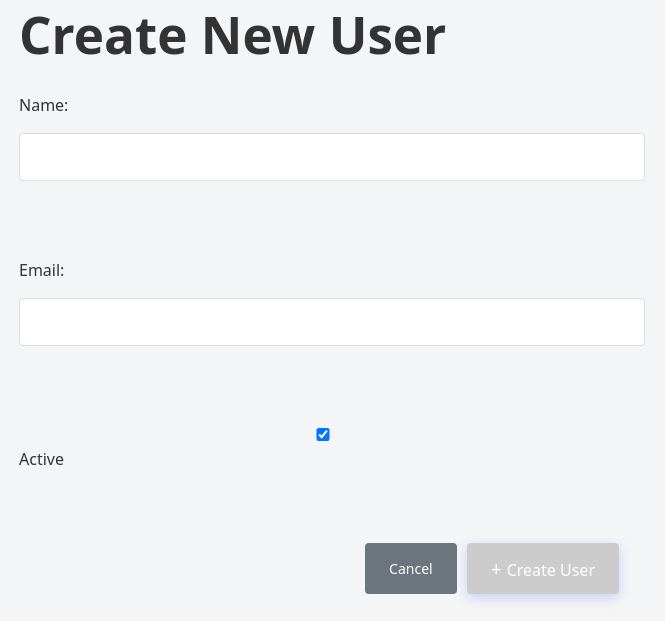
Test case: CreateUser › shows validation errors when fields are touched and invalid
Click the field labelled "Name:" at (332, 157), box [19, 133, 645, 181]
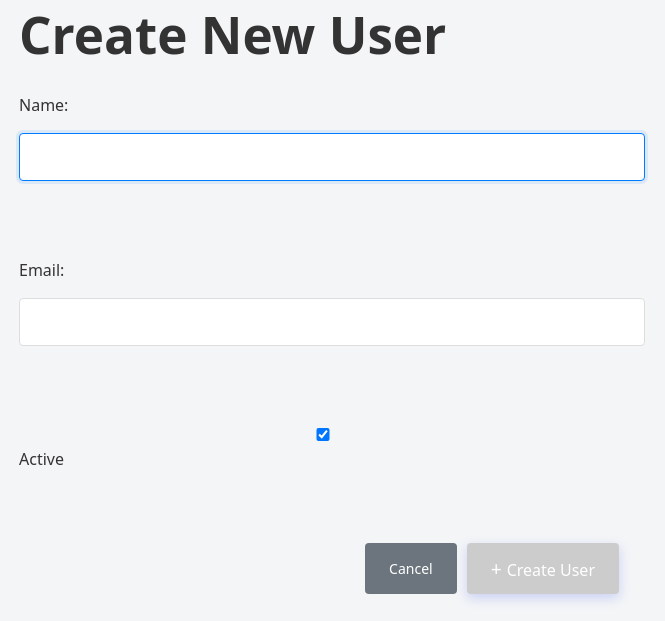
Press Tab
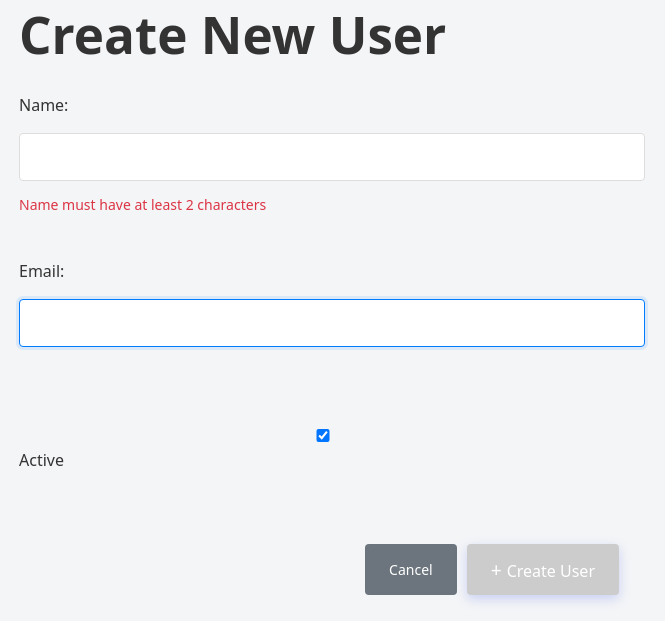
Type "invalid-email" into the field labelled "Email:" at (332, 323), box [19, 299, 645, 347]
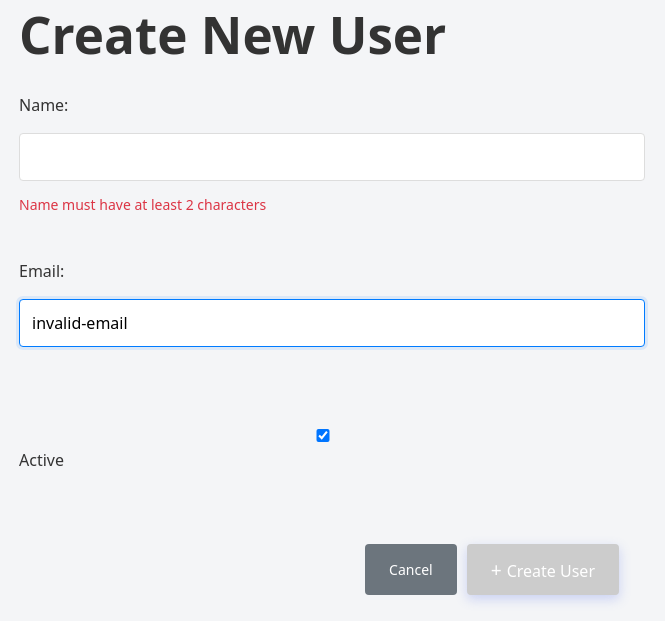
Press Tab
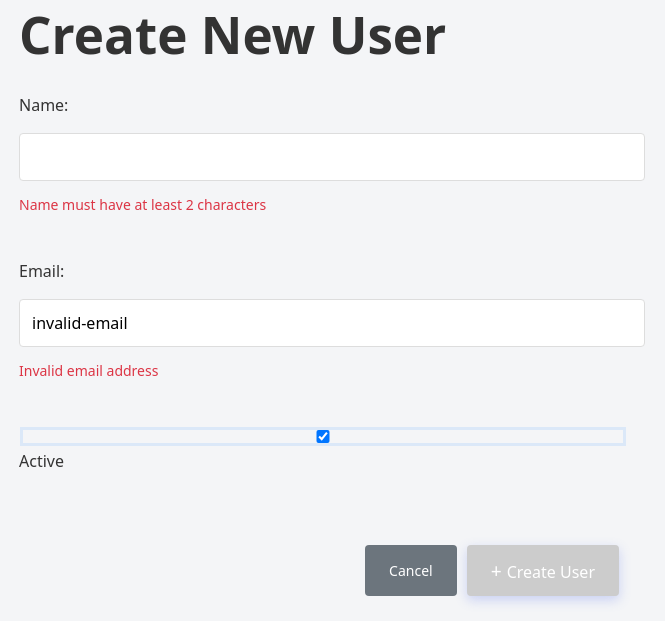
Check: the text "Name must have at least 2 characters" is shown, box [19, 195, 266, 214]
Check: the text "Invalid email address" is shown, box [19, 361, 158, 380]
